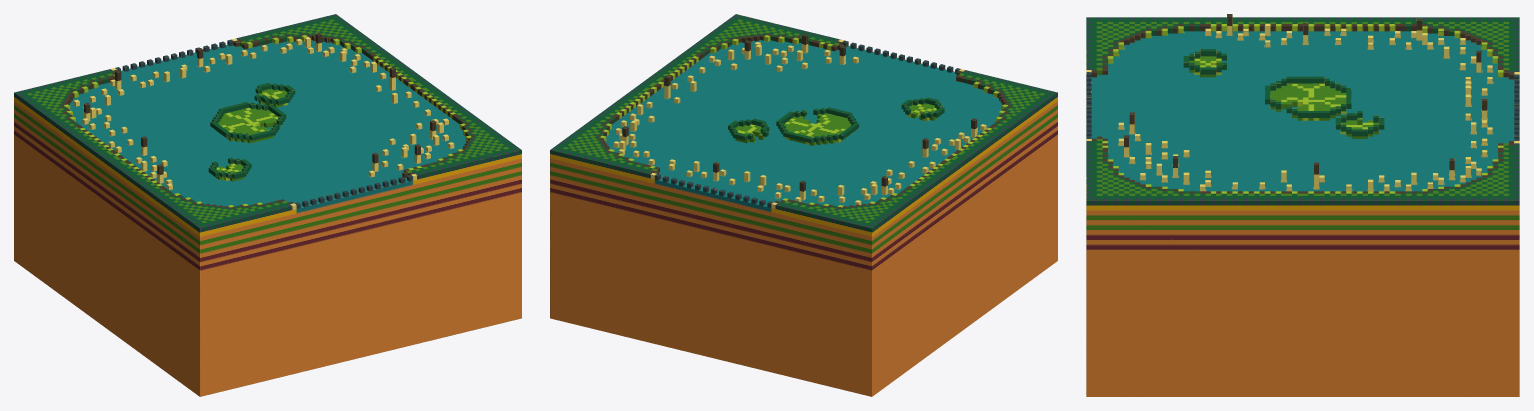
The model's file is swamp_2_tile.glb.
3 views of the same model, side by side, from view 1: azimuth 30°, elevation 25°; view 2: azimuth 150°, elevation 25°; view 3: azimuth 270°, elevation 25° (orthographic). The views are drawn at different scales.
Parts seen in each view (by area): view 1: swamp_2_tile; view 2: swamp_2_tile; view 3: swamp_2_tile.
Boxes of the visible parts, x1,y1,x2,y2 form: swamp_2_tile: (14,14,521,396); swamp_2_tile: (550,14,1057,396); swamp_2_tile: (1086,14,1519,396).
Bounding box in the file's own units: 8 × 4.4 × 8.
Materials: 1 (1 with a texture image).
